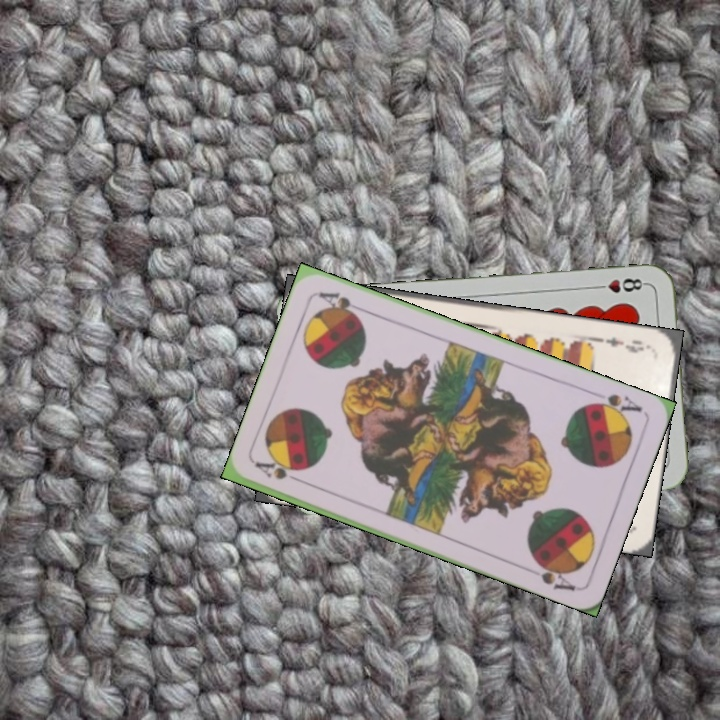E9: (595, 333, 654, 356)
H8: (590, 273, 649, 296)
SA: (585, 390, 645, 421), (252, 458, 309, 487)
